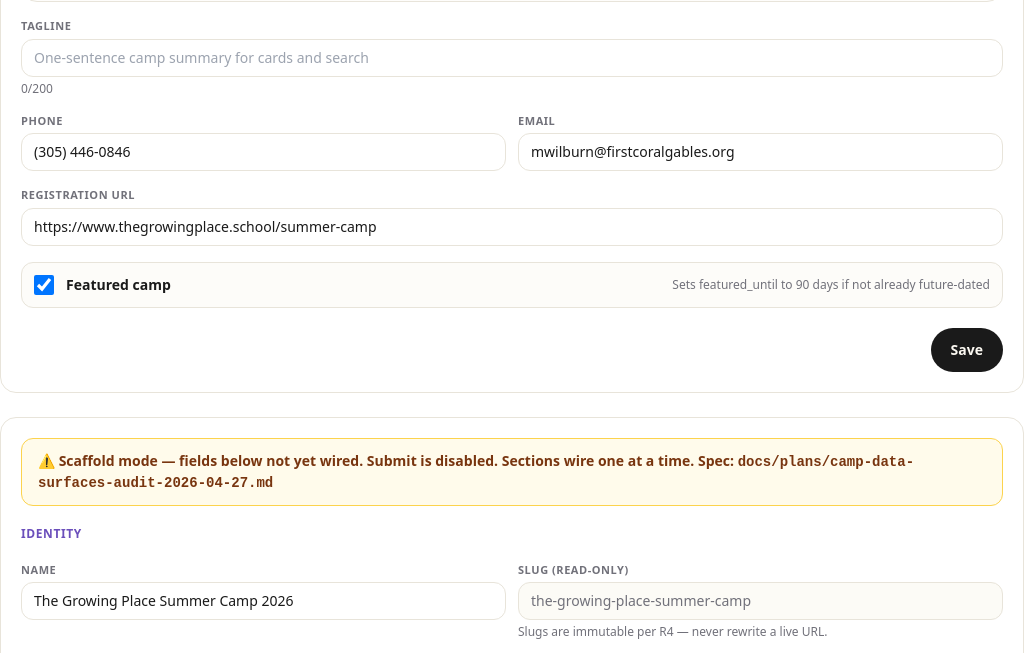
it: CampEditForm — image upload fields (logo + hero) › renders the server-side logo_url validation error when returned
The image size is (1024, 653).
(page scrolled)
Click the button with test id "quick-edit-submit": (967, 350) x1=931 y1=328 x2=1003 y2=372
(page scrolled)
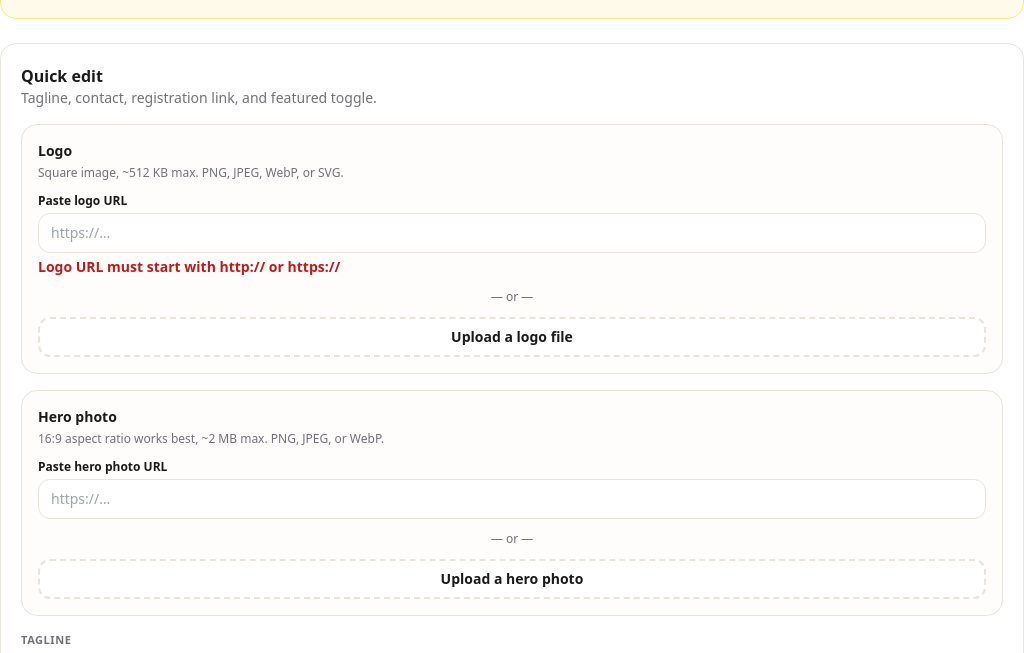
Now the text "Logo URL must start with http:// or https://" is shown, box x1=38 y1=257 x2=340 y2=276
